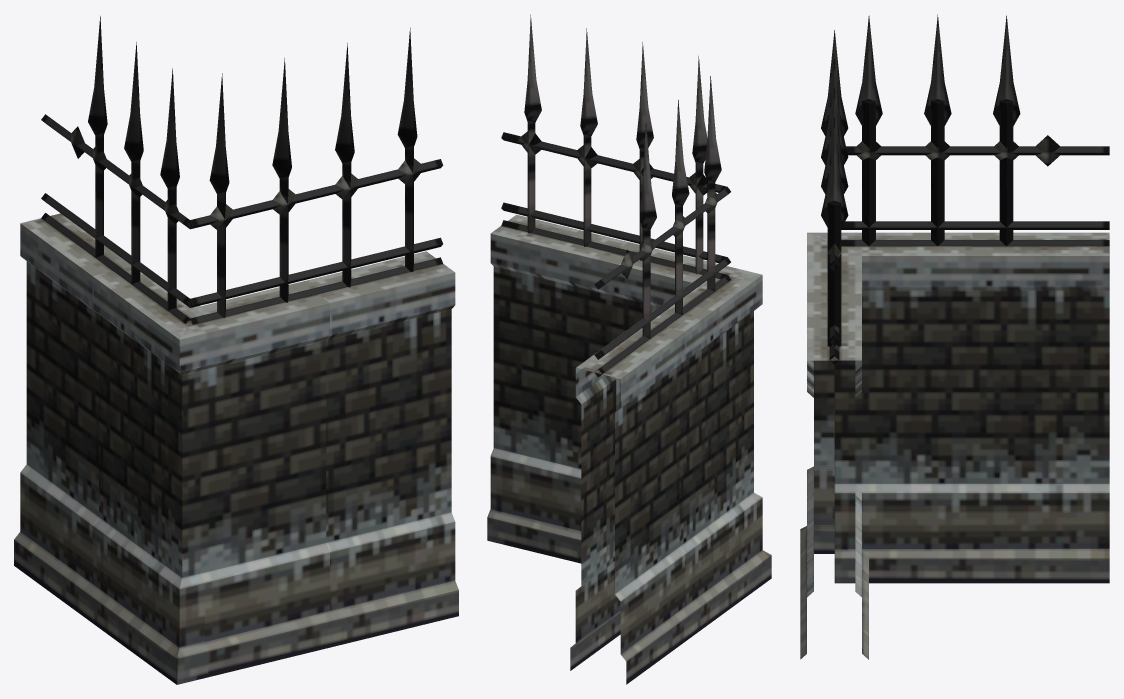
Rendered from EnvBdgMD_Snow_Seidoukikan_A_GrdWall_RF_CoOut_Fence.FBX.
3 views of the same model, side by side, from view 1: azimuth 30°, elevation 25°; view 2: azimuth 150°, elevation 25°; view 3: azimuth 270°, elevation 25° (orthographic). The views are drawn at different scales.
Parts seen in each view (by area): view 1: EnvBdgMD_Snow_Seidoukikan_A_GrdWall_RF_CoOut_Fence; view 2: EnvBdgMD_Snow_Seidoukikan_A_GrdWall_RF_CoOut_Fence; view 3: EnvBdgMD_Snow_Seidoukikan_A_GrdWall_RF_CoOut_Fence.
Part boxes in pixels (x1,y1,x2,y2): EnvBdgMD_Snow_Seidoukikan_A_GrdWall_RF_CoOut_Fence: [14, 16, 458, 684]; EnvBdgMD_Snow_Seidoukikan_A_GrdWall_RF_CoOut_Fence: [487, 14, 771, 684]; EnvBdgMD_Snow_Seidoukikan_A_GrdWall_RF_CoOut_Fence: [800, 14, 1109, 659].
Size of the model in its own units: 225 by 445 by 225.
Materials: 1 (1 with a texture image).
